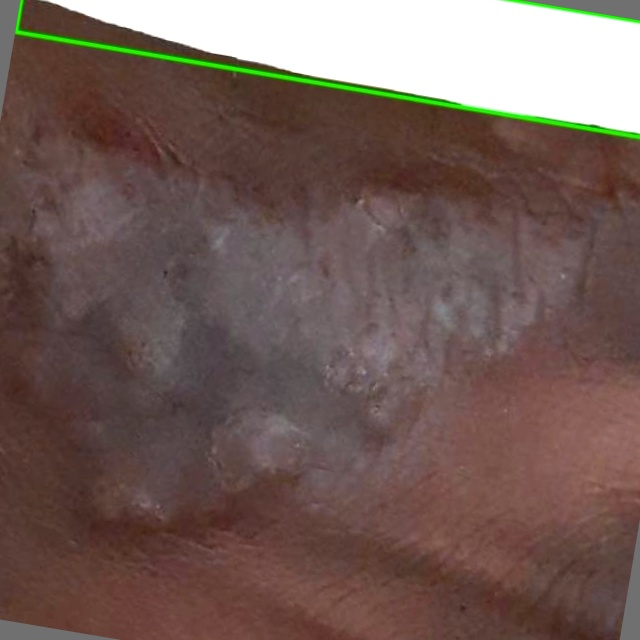Seborrheic Dermatitis: (15, 0, 639, 138)
